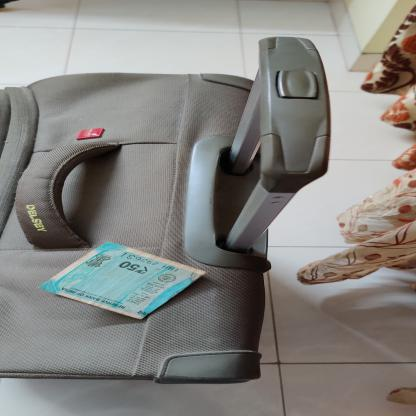New50Front: (36, 239, 208, 321)
